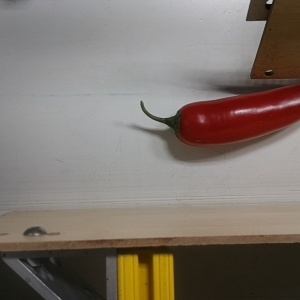Cut Point: (165, 103, 196, 145)
